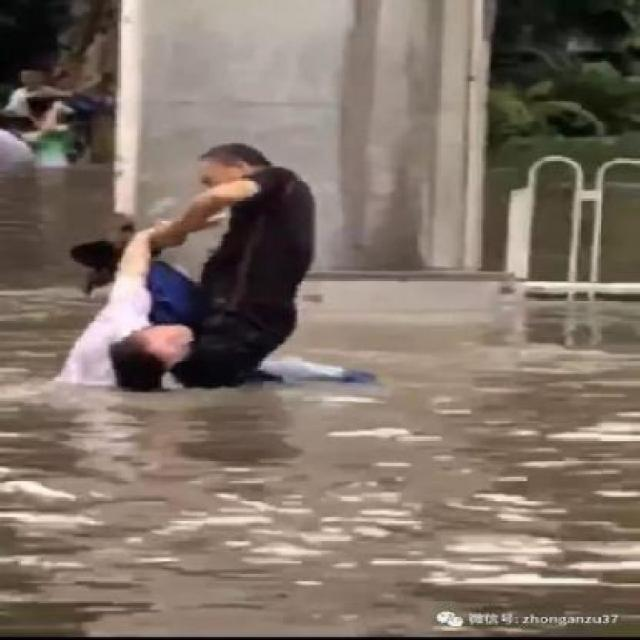fall: (29, 218, 209, 398)
